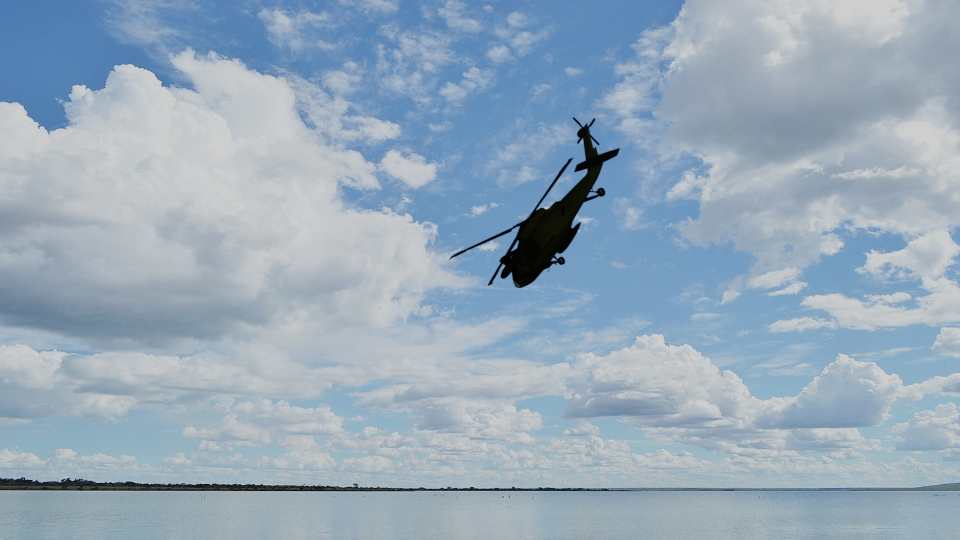heli: (450, 115, 618, 288)
